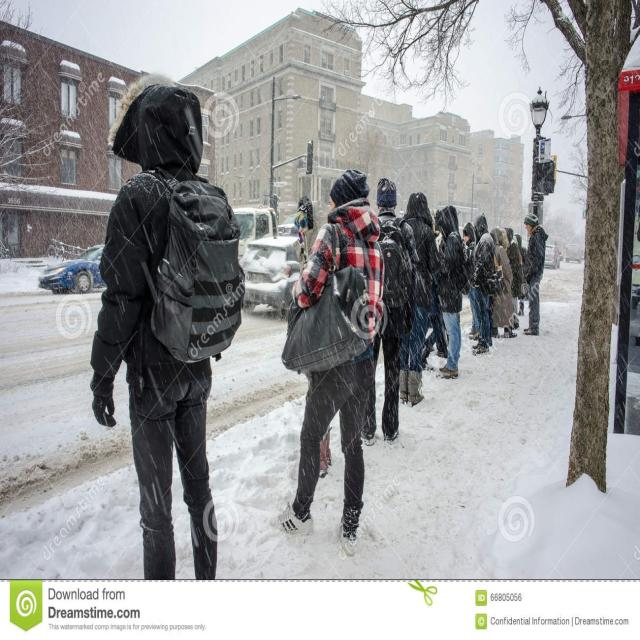body: (88, 73, 250, 582), (266, 166, 386, 560), (361, 176, 417, 446), (292, 195, 334, 481), (397, 190, 438, 407), (429, 203, 474, 382), (522, 211, 550, 338), (471, 212, 495, 356), (426, 199, 446, 365), (490, 226, 514, 339), (462, 222, 480, 341), (504, 227, 520, 331), (512, 234, 528, 318), (487, 252, 494, 355)
